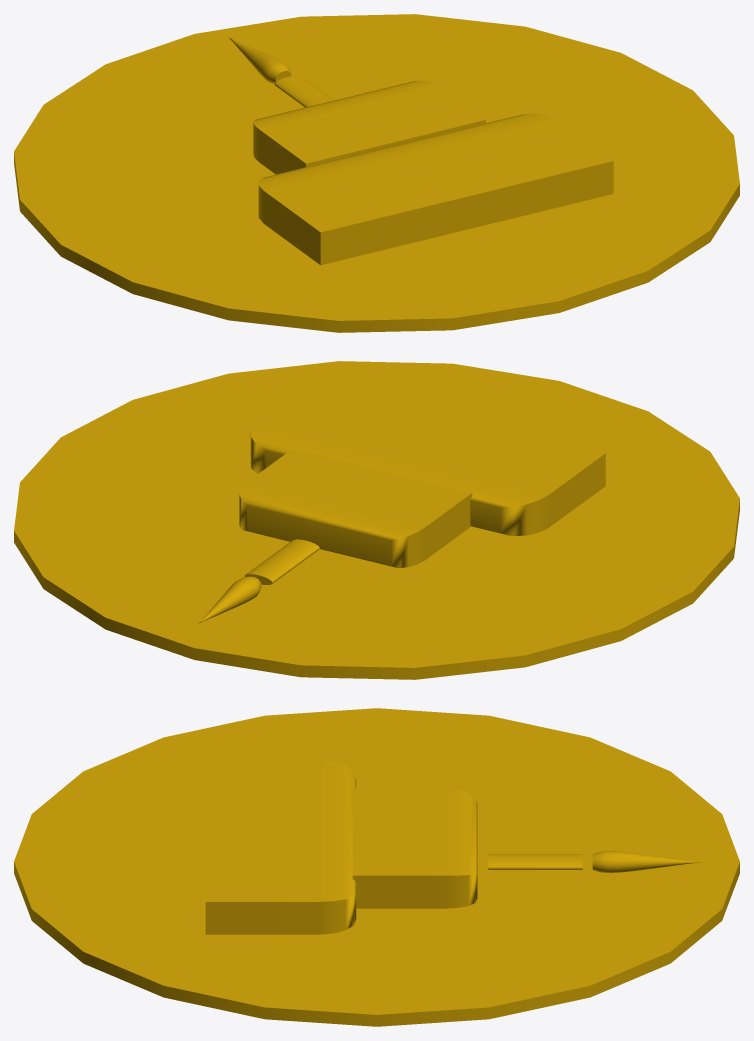
File: cakeCoin.fbx
3 views of the same model, one above another, from view 1: azimuth 30°, elevation 25°; view 2: azimuth 150°, elevation 25°; view 3: azimuth 270°, elevation 25° (orthographic).
Parts seen in each view (by area): view 1: pCylinder1, polySurface1, polySurface2, polySurface3, polySurface4; view 2: pCylinder1, polySurface1, polySurface2, polySurface3, polySurface4; view 3: pCylinder1, polySurface1, polySurface2, polySurface3, polySurface4.
Part boxes in pixels (x1,y1,x2,y2): pCylinder1: (14,14,739,332); polySurface1: (258,113,613,265); polySurface2: (253,80,485,174); polySurface3: (274,75,334,107); polySurface4: (228,37,291,83); pCylinder1: (14,361,739,679); polySurface1: (250,382,605,536); polySurface2: (239,449,472,568); polySurface3: (244,539,319,584); polySurface4: (198,576,261,623); pCylinder1: (14,708,739,1026); polySurface1: (205,759,356,934); polySurface2: (352,788,477,908); polySurface3: (488,854,582,869); polySurface4: (592,851,701,872).
Size of the model in its own units: 1.45 by 0.0985 by 1.45.
